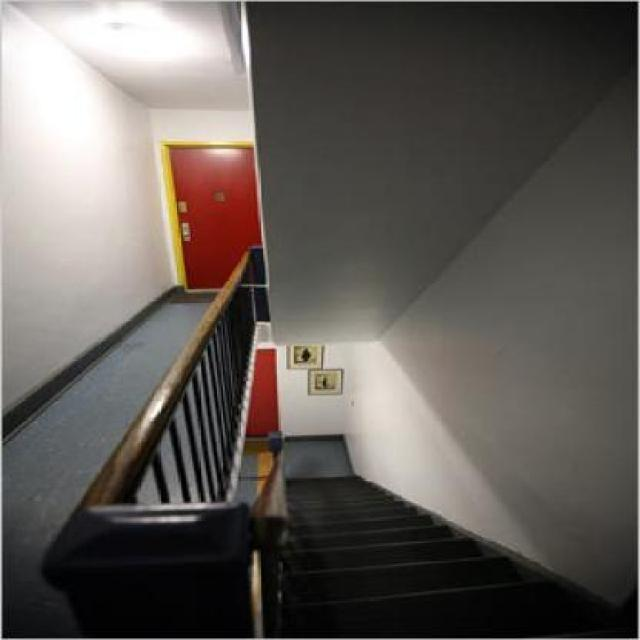stair: (188, 423, 640, 640)
